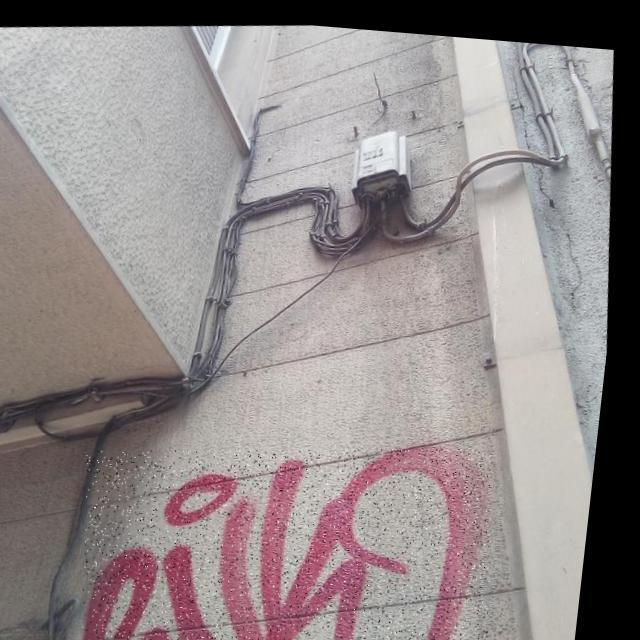-: (79, 413, 521, 640)
